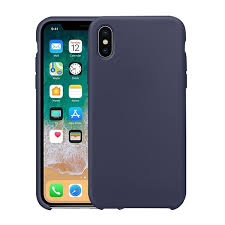iphone: (30, 12, 188, 210)
iphone10: (30, 12, 188, 210)
